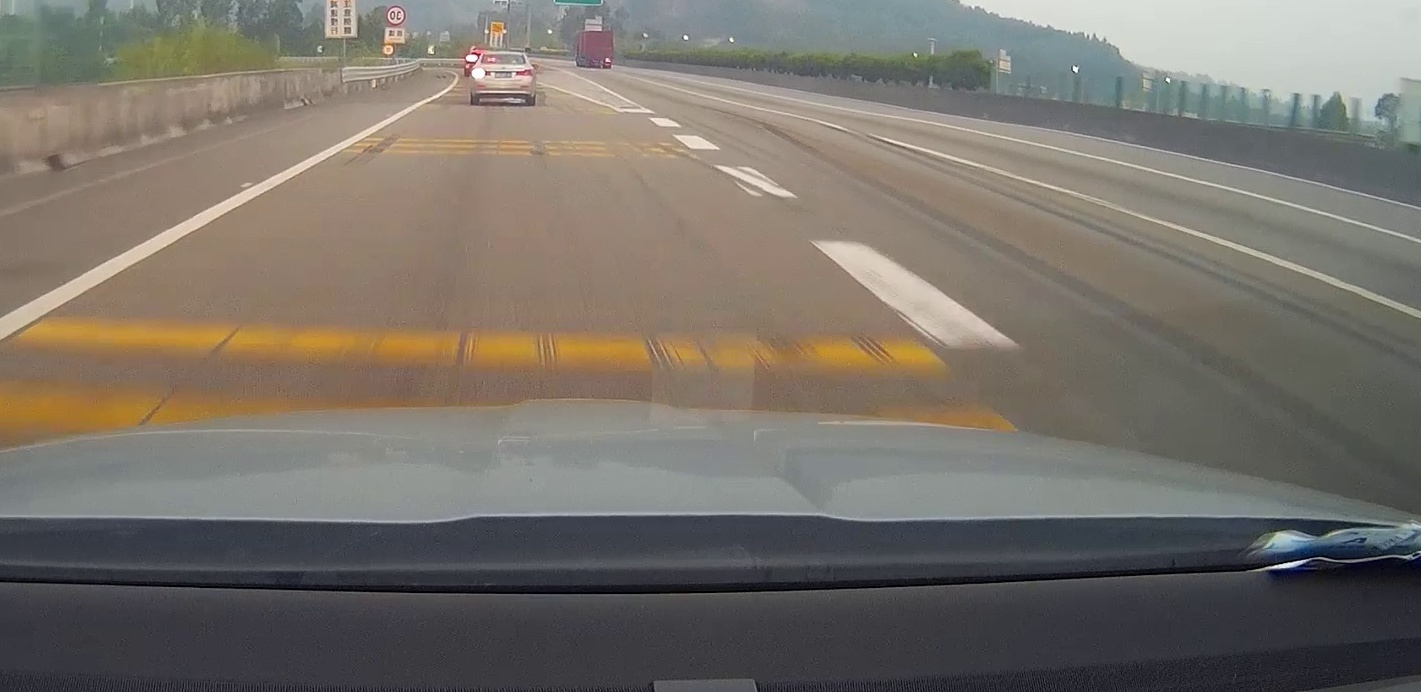L_light: (473, 69, 491, 77)
R_light: (516, 69, 534, 76)
T_light: (499, 53, 507, 56)
day-left: (470, 51, 536, 105)
